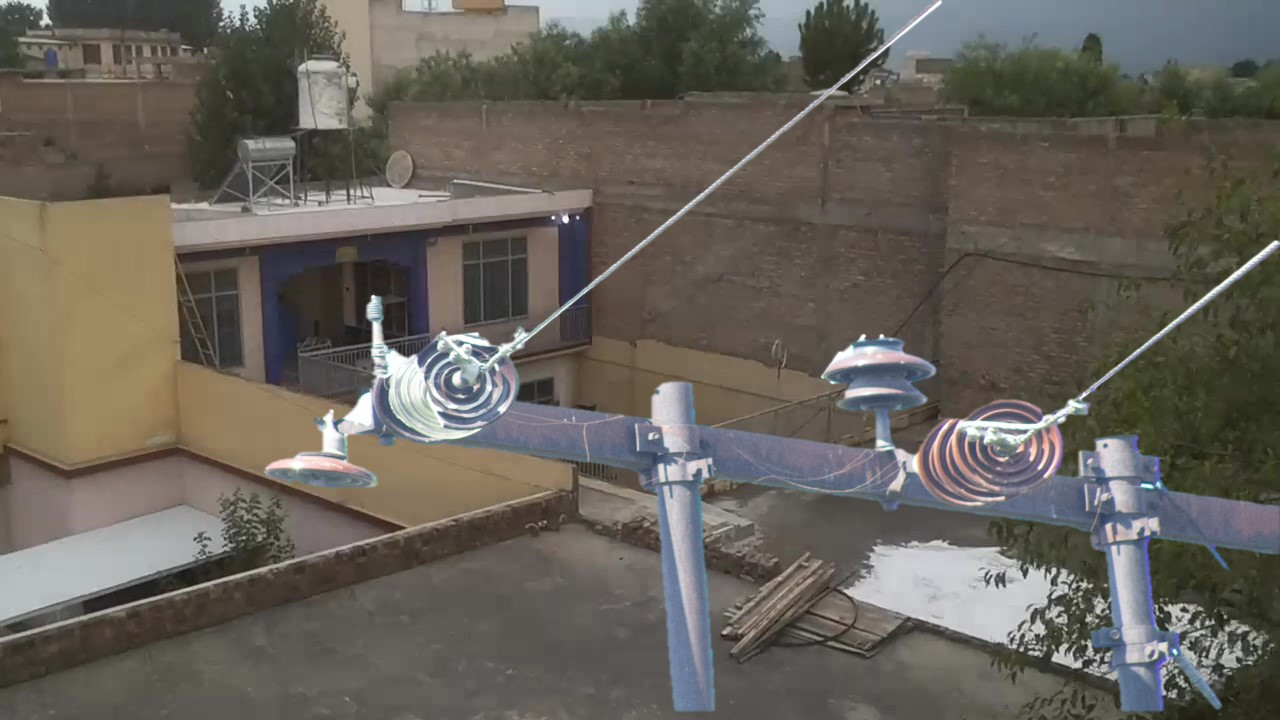defect_disc: (415, 330, 524, 439)
insulator_disc: (949, 393, 1070, 497), (260, 439, 381, 499)
